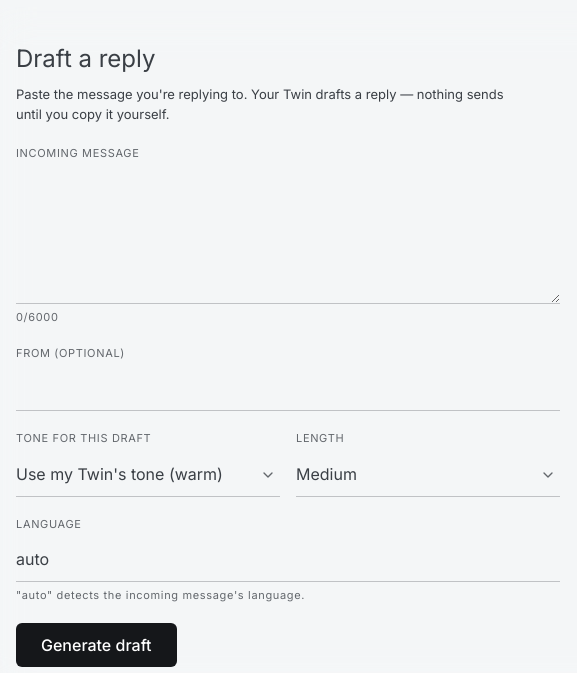
Scenario: TwinDraftWorkspace — draft review and the draft-only label › marks the generated draft 'Draft — nothing is sent', never rendered as HTML (plain text node)
Type "Can you send the update today?" into the text box labelled "Incoming message" at (288,236), box 16,167 -> 560,304
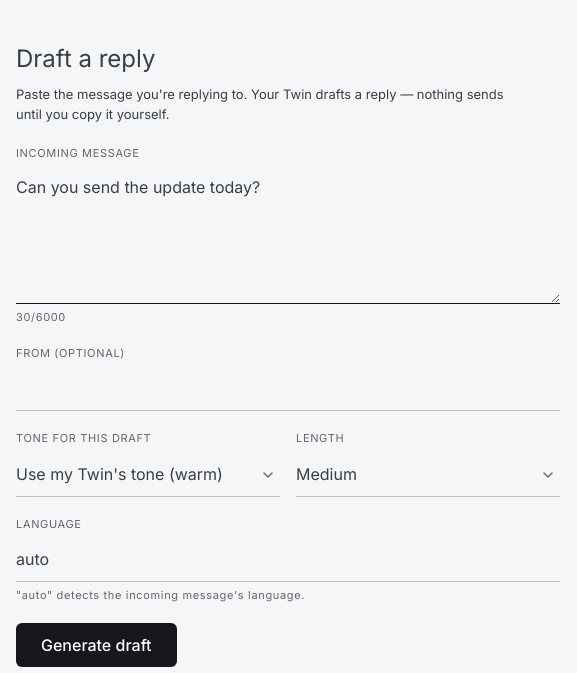
Click the button "Generate draft" at (96,645), box 16,623 -> 177,667
(page scrolled)
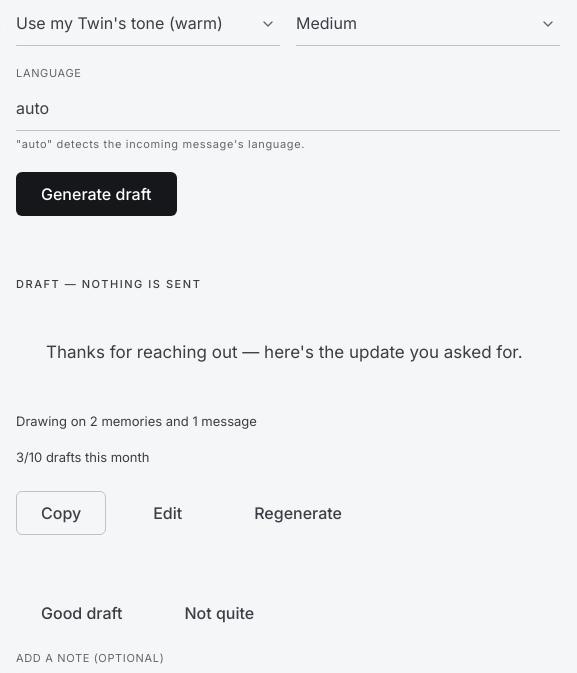
Expected: the text "Draft — nothing is sent" is shown, 16,276 -> 201,293
Expected: the text "Thanks for reaching out — here's the update you asked for." is shown, 46,342 -> 523,362
